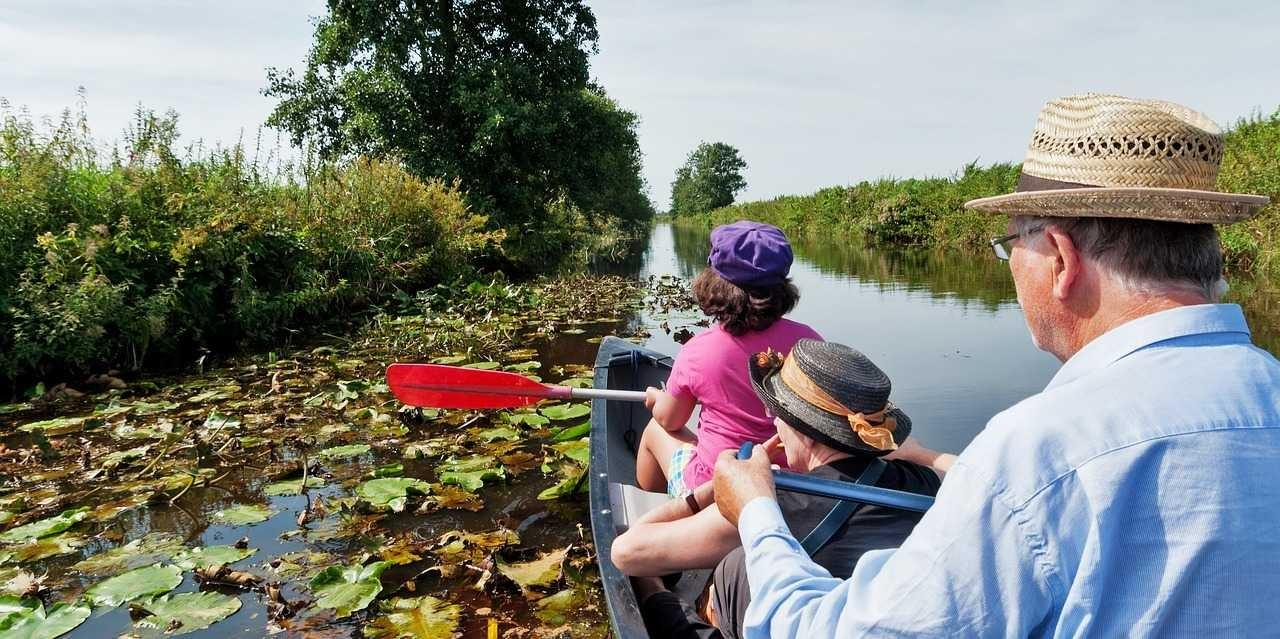kayak: (597, 336, 955, 638), (386, 362, 588, 409)
